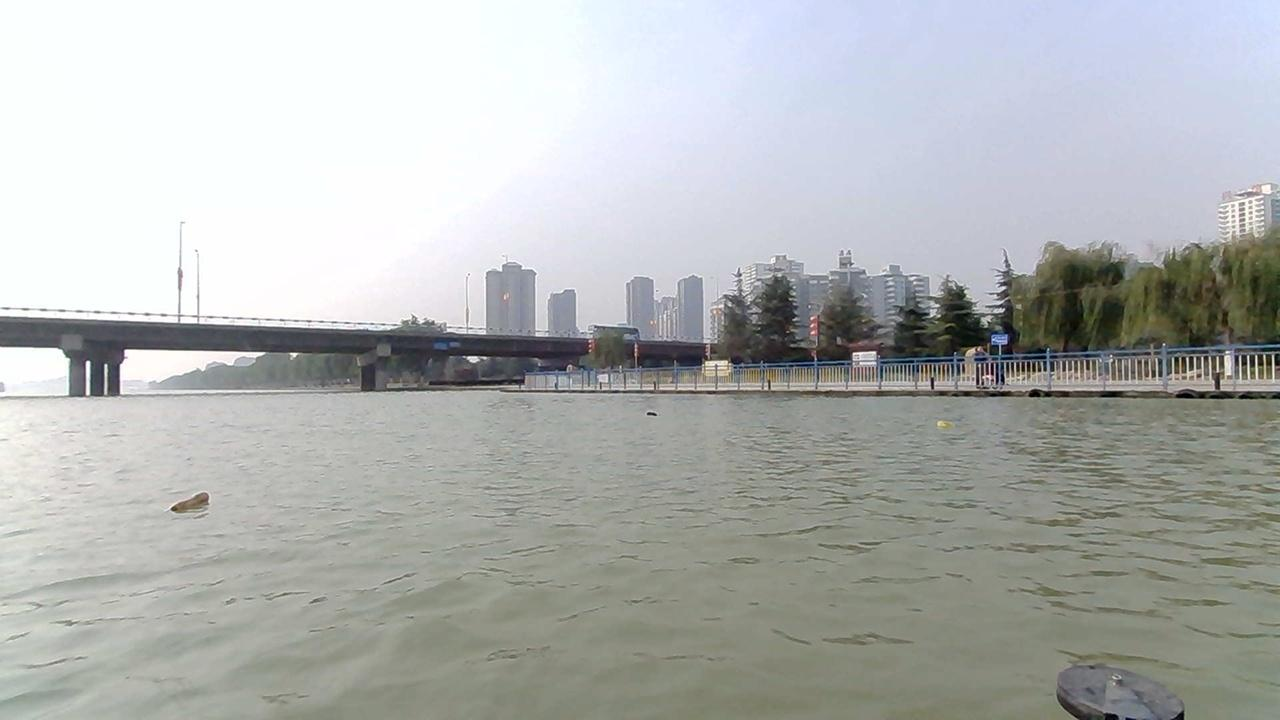bottle: (166, 490, 209, 511), (936, 419, 955, 426), (646, 410, 659, 415)
